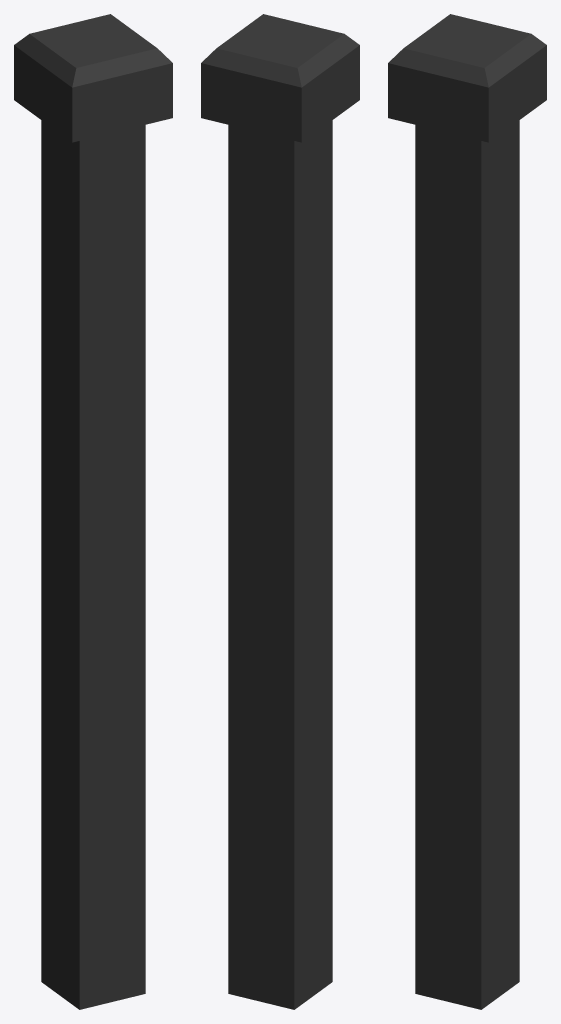
Rendered from StairsPart2_C4.fbx.
3 renders of one model, left to right at view 1: azimuth 30°, elevation 25°; view 2: azimuth 150°, elevation 25°; view 3: azimuth 330°, elevation 25°, orthographic.
Parts seen in each view (by area): view 1: StairsPart2_C4; view 2: StairsPart2_C4; view 3: StairsPart2_C4.
Part boxes in pixels (x1,y1,x2,y2): StairsPart2_C4: (14,14,172,1009); StairsPart2_C4: (201,14,359,1009); StairsPart2_C4: (388,14,546,1009).
Size of the model in its own units: 11.02 by 98.99 by 11.02.
